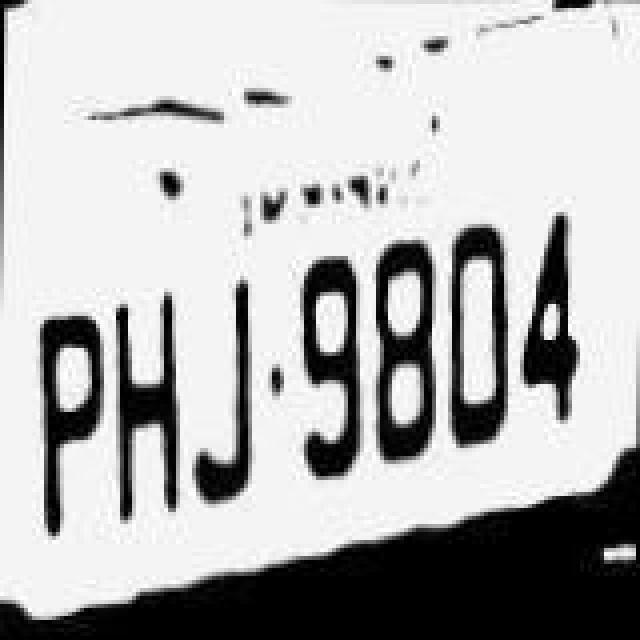4: (516, 208, 596, 472)
8: (366, 234, 442, 502)
9: (288, 246, 364, 526)
H: (110, 270, 190, 542)
J: (188, 260, 264, 524)
O: (442, 214, 518, 490)
P: (28, 286, 112, 554)
